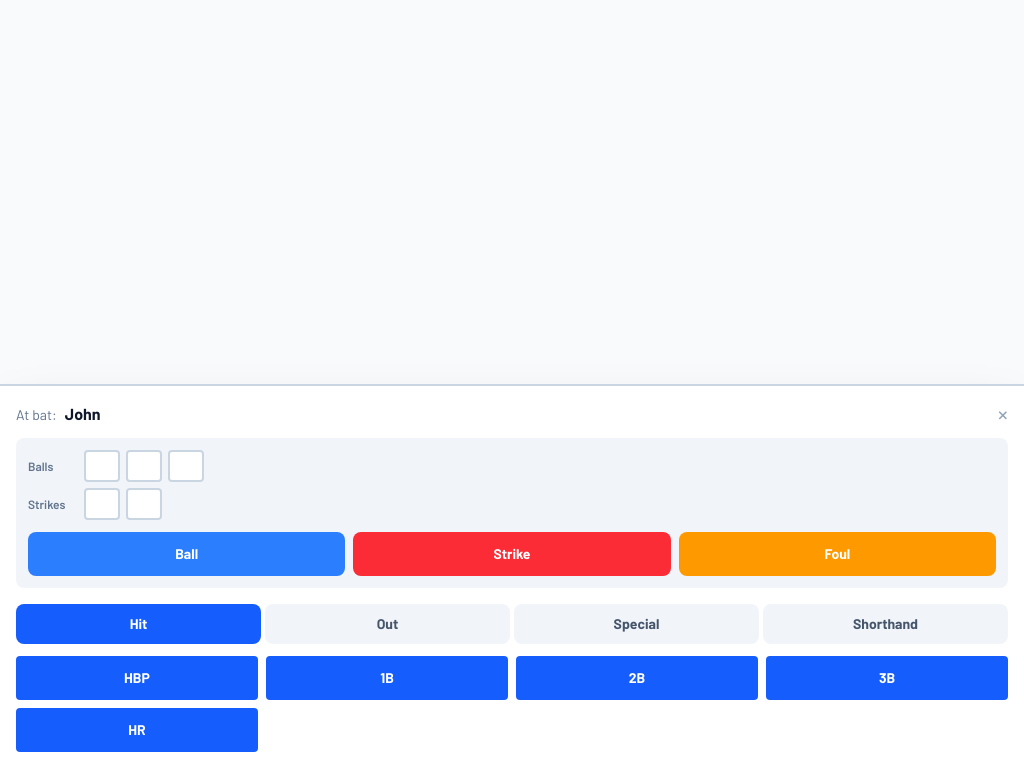
Test: PlayEntryPanel › should show runner selection when multiple runners on base and SB tapped
Step 1. Click the button "Special" → (636, 624), box [514,604,759,644]
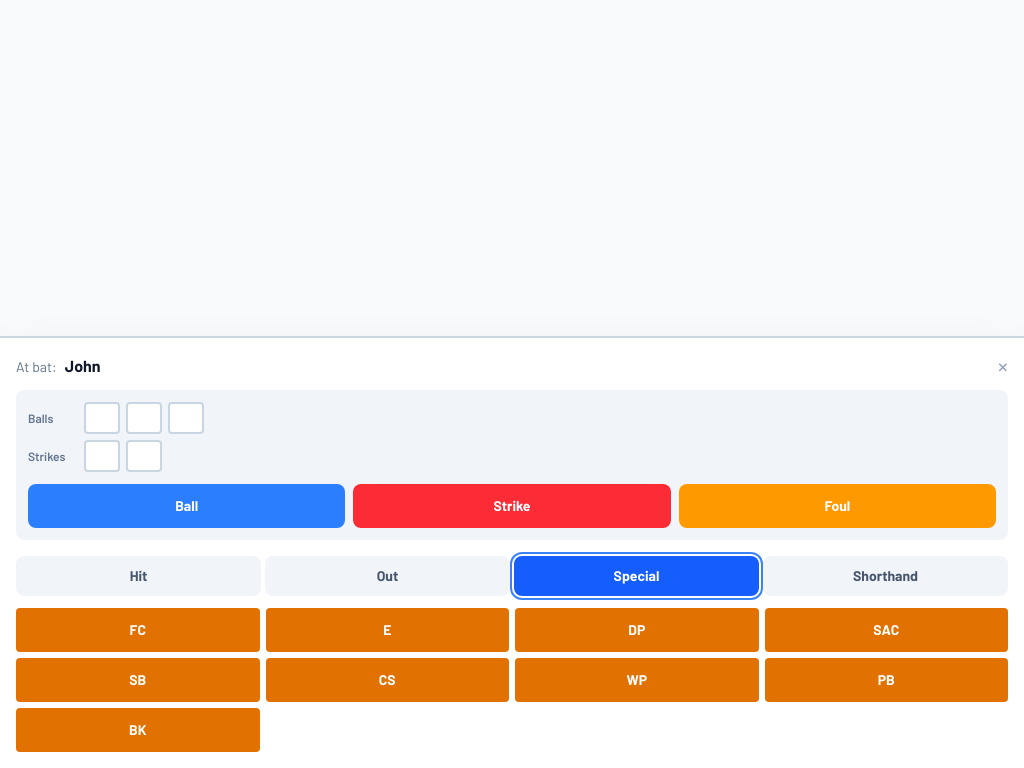
Step 2. Click the button "SB" → (138, 680), box [16,658,260,702]
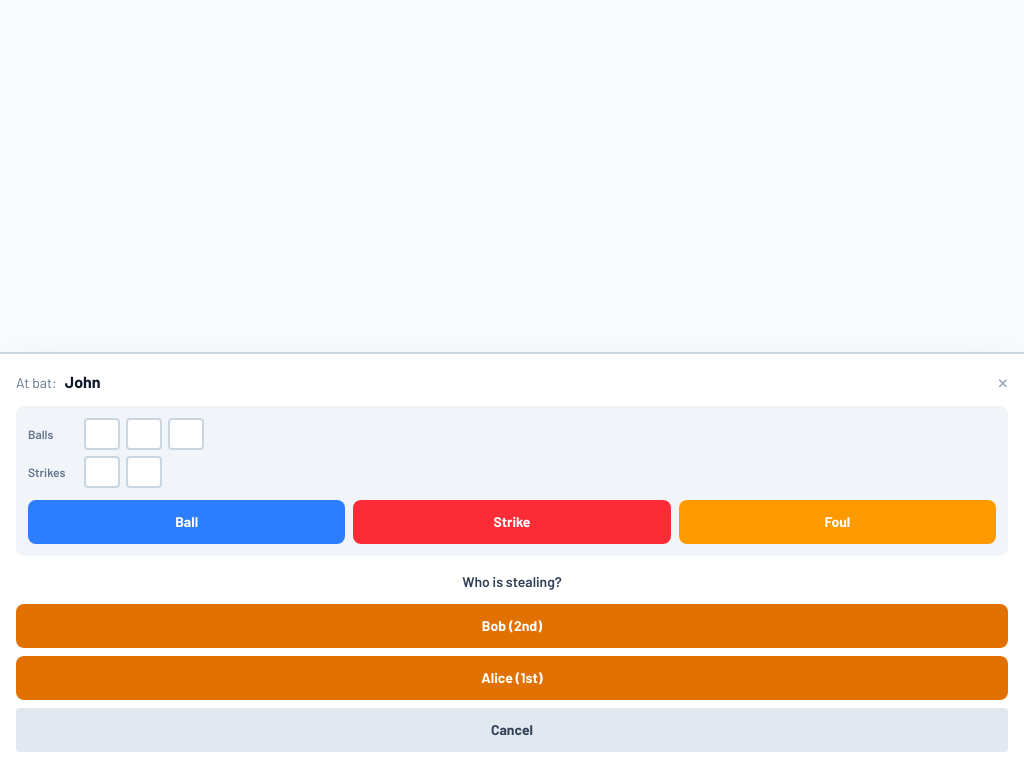
Result: the text "Who is stealing?" is shown at [462,573,562,590]
